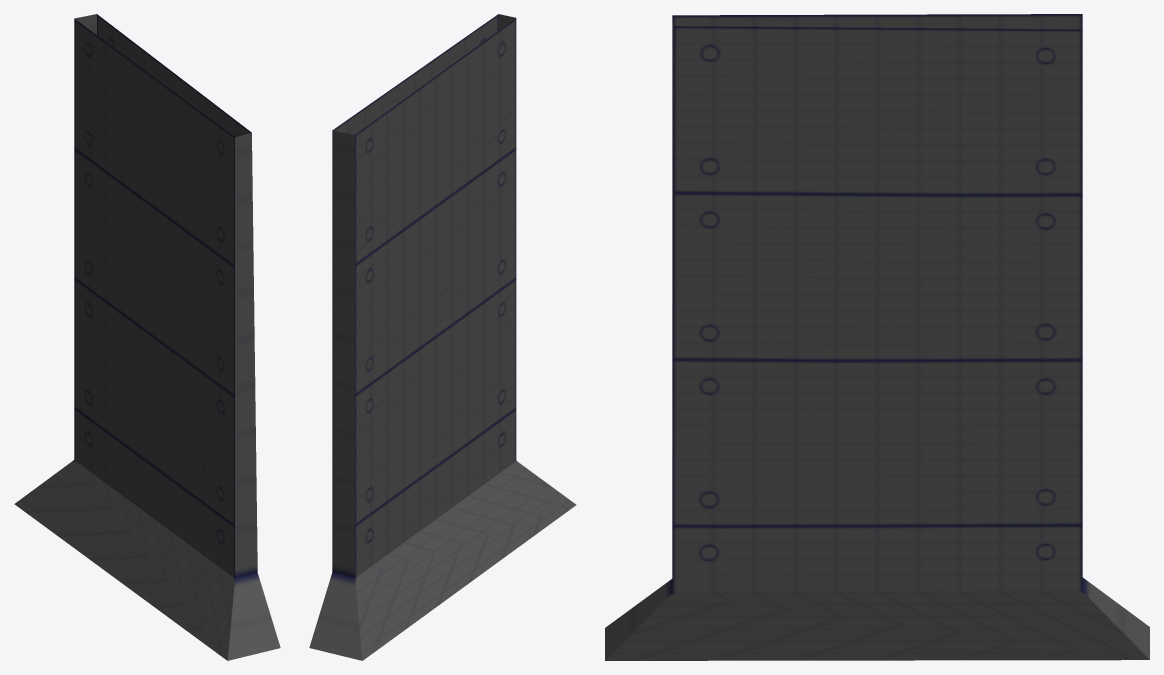
Rendered from door2.fbx.
3 views of the same model, side by side, from view 1: azimuth 30°, elevation 25°; view 2: azimuth 150°, elevation 25°; view 3: azimuth 270°, elevation 25° (orthographic). The views are drawn at different scales.
Visible parts, largest first — view 1: door2; view 2: door2; view 3: door2.
Boxes of the visible parts, <box> form: door2: <box>14,14,280,660</box>; door2: <box>309,14,576,660</box>; door2: <box>605,14,1149,660</box>.
Size of the model in its own units: 32.11 by 270 by 210.
Materials: 1 (1 with a texture image).
